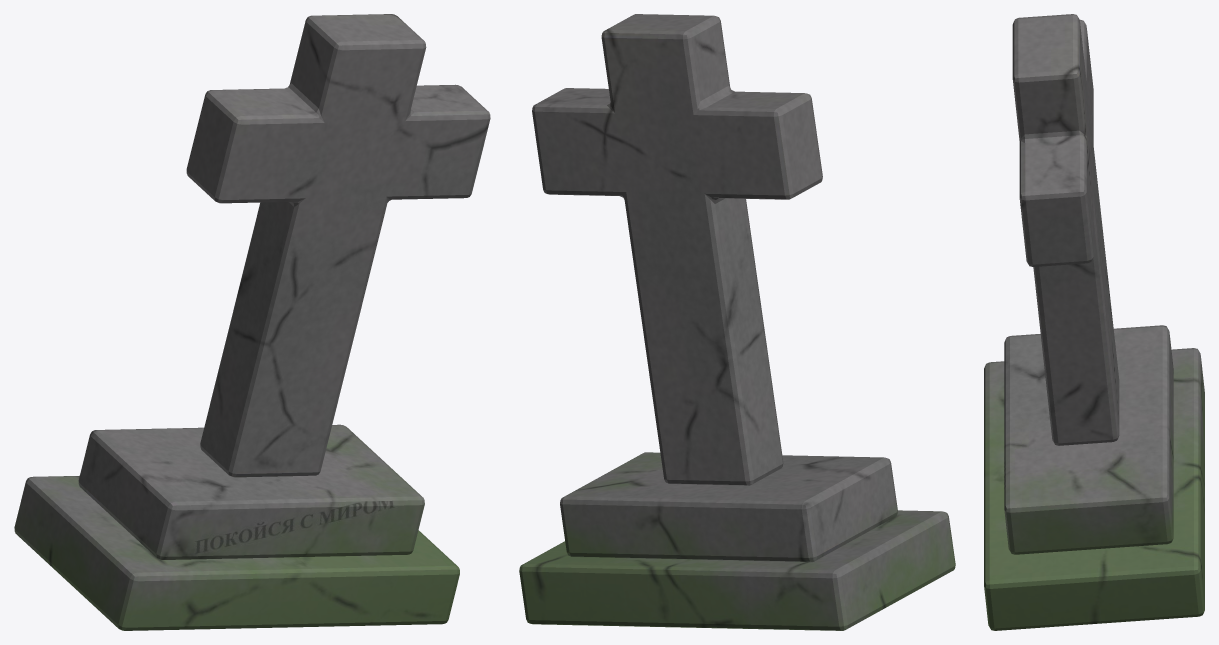
The model's file is gravestone_cross_tilted_a.glb.
The picture shows the model from 3 angles, left to right: view 1: azimuth 30°, elevation 25°; view 2: azimuth 150°, elevation 25°; view 3: azimuth 270°, elevation 25°; orthographic projection. The views are drawn at different scales.
Visible parts, largest first — view 1: gravestone_cross_tilted_a; view 2: gravestone_cross_tilted_a; view 3: gravestone_cross_tilted_a.
Part boxes in pixels (x1,y1,x2,y2): gravestone_cross_tilted_a: (14, 14, 490, 630); gravestone_cross_tilted_a: (519, 14, 955, 630); gravestone_cross_tilted_a: (984, 14, 1204, 630).
Size of the model in its own units: 0.8306 by 1.22 by 0.4267.
1 material, 1 textured.
